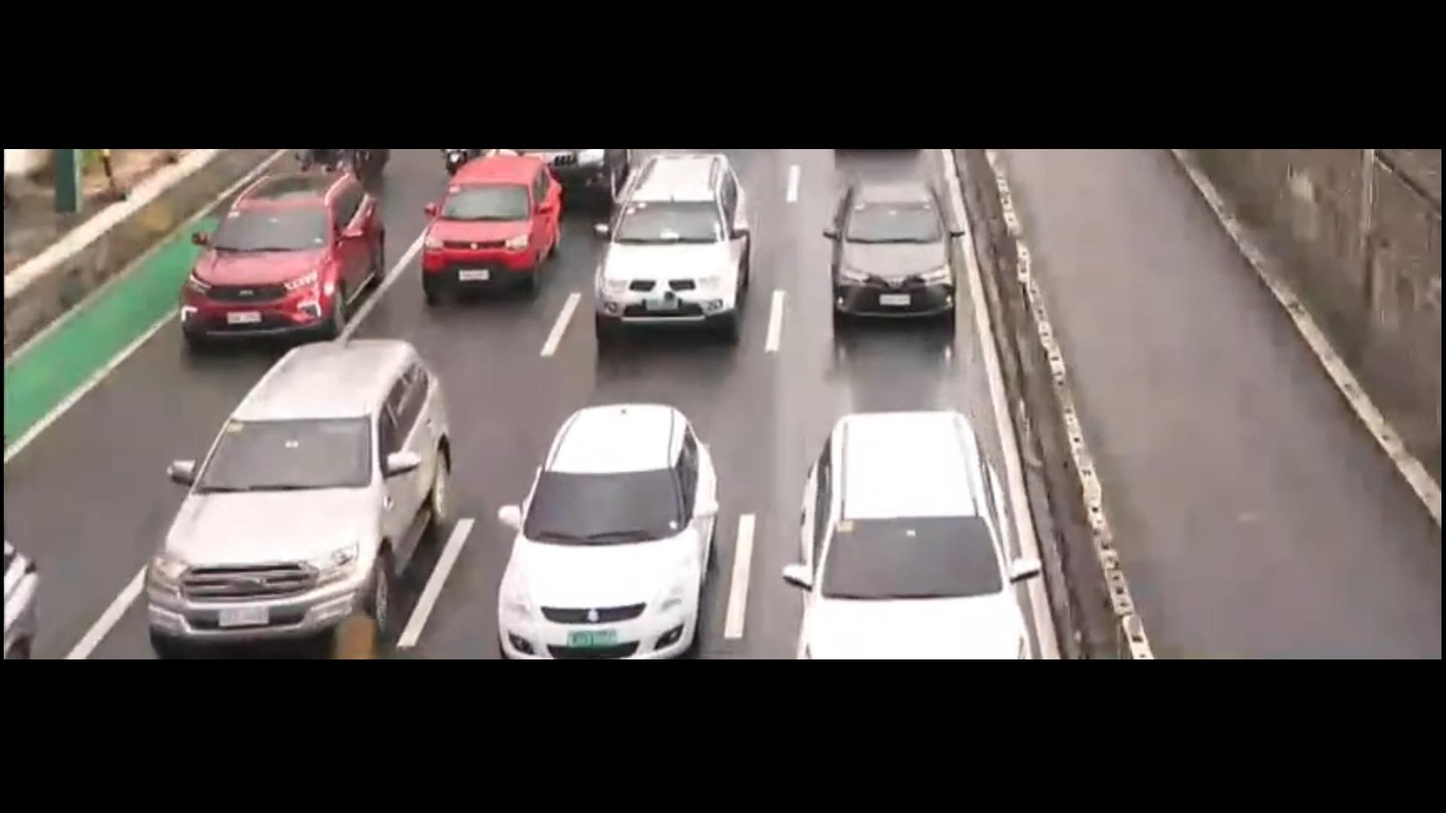SUV: (123, 320, 497, 654), (781, 382, 1045, 663), (167, 149, 403, 366), (576, 155, 770, 345), (394, 149, 577, 306)
Sedan: (481, 381, 746, 658), (817, 172, 989, 354)
